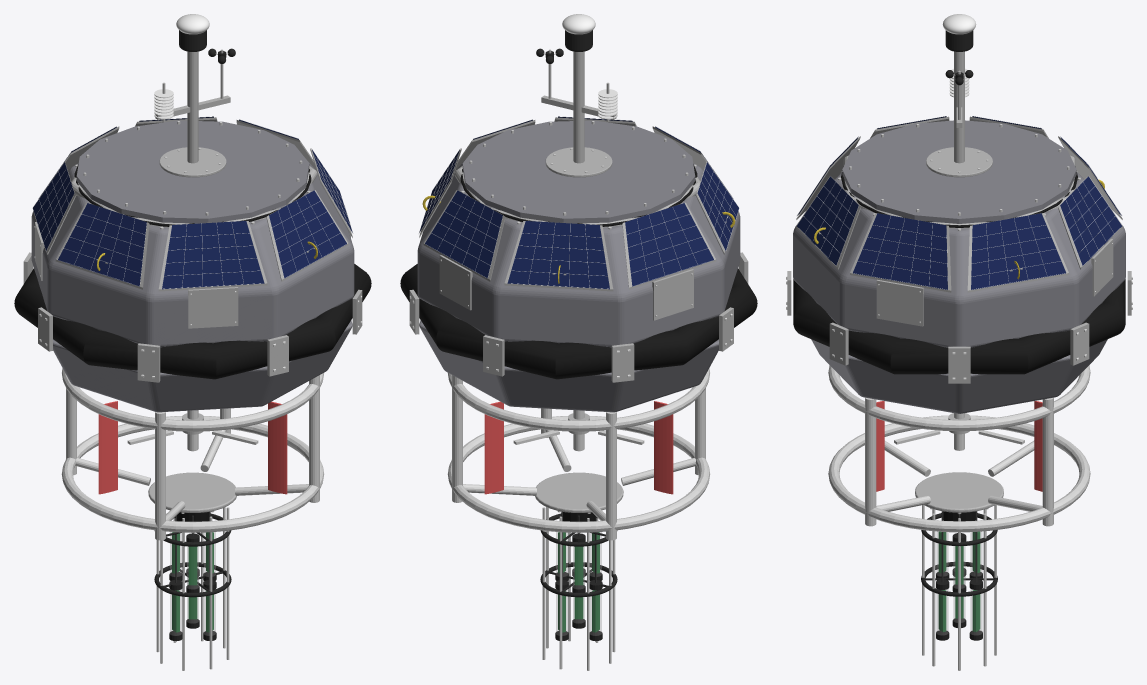
File: samudrax-complete-v8.glb
The picture shows the model from 3 angles, left to right: view 1: azimuth 30°, elevation 25°; view 2: azimuth 150°, elevation 25°; view 3: azimuth 270°, elevation 25°; orthographic projection.
Visible parts, largest first — view 1: Main_Hull, Cylinder.016, Torus, Solar_Panel_Cells_06, Torus.010, Solar_Panel_Cells_05, Solar_Panel_Cells_07, Torus.009, Cylinder.170, Cube.010, Solar_Panel_Cells_04, Turbine_Blade_0 (+19 smaller); view 2: Main_Hull, Cylinder.016, Torus, Solar_Panel_Cells_03, Solar_Panel_Cells_04, Torus.010, Solar_Panel_Cells_02, Torus.009, Cylinder.170, Solar_Panel_Cells_05, Cube.009, Turbine_Blade_0 (+20 smaller); view 3: Main_Hull, Cylinder.016, Torus, Solar_Panel_Cells_08, Solar_Panel_Cells_01, Torus.010, Torus.009, Solar_Panel_Cells_02, Solar_Panel_Cells_07, Cylinder.170, Cube.011, Cylinder.142 (+24 smaller).
Part boxes in pixels (bbox=[...]): Main_Hull: bbox=[31, 157, 354, 412]; Cylinder.016: bbox=[76, 120, 309, 223]; Torus: bbox=[14, 264, 371, 379]; Solar_Panel_Cells_06: bbox=[162, 221, 264, 289]; Torus.010: bbox=[61, 416, 324, 532]; Solar_Panel_Cells_05: bbox=[58, 203, 146, 286]; Solar_Panel_Cells_07: bbox=[269, 190, 346, 278]; Torus.009: bbox=[62, 368, 323, 431]; Cylinder.170: bbox=[148, 472, 236, 512]; Cube.010: bbox=[188, 287, 238, 328]; Solar_Panel_Cells_04: bbox=[33, 162, 74, 250]; Turbine_Blade_0: bbox=[98, 401, 117, 494]; Main_Hull: bbox=[417, 157, 740, 412]; Cylinder.016: bbox=[462, 120, 695, 223]; Torus: bbox=[400, 264, 757, 379]; Solar_Panel_Cells_03: bbox=[507, 221, 609, 289]; Solar_Panel_Cells_04: bbox=[625, 203, 713, 286]; Torus.010: bbox=[447, 416, 710, 532]; Solar_Panel_Cells_02: bbox=[425, 190, 502, 278]; Torus.009: bbox=[448, 368, 709, 431]; Cylinder.170: bbox=[535, 472, 623, 512]; Solar_Panel_Cells_05: bbox=[697, 162, 738, 250]; Cube.009: bbox=[652, 269, 693, 320]; Turbine_Blade_0: bbox=[654, 401, 673, 494]; Main_Hull: bbox=[793, 172, 1125, 413]; Cylinder.016: bbox=[842, 120, 1076, 223]; Torus: bbox=[793, 279, 1125, 374]; Solar_Panel_Cells_08: bbox=[853, 213, 947, 289]; Solar_Panel_Cells_01: bbox=[971, 213, 1065, 289]; Torus.010: bbox=[828, 415, 1090, 532]; Torus.009: bbox=[828, 365, 1090, 431]; Solar_Panel_Cells_02: bbox=[1060, 176, 1121, 265]; Solar_Panel_Cells_07: bbox=[797, 176, 858, 265]; Cylinder.170: bbox=[915, 472, 1003, 512]; Cube.011: bbox=[876, 279, 923, 326]; Cylinder.142: bbox=[926, 147, 992, 177].
Size of the model in its own units: 1.24 by 2.52 by 1.24.
